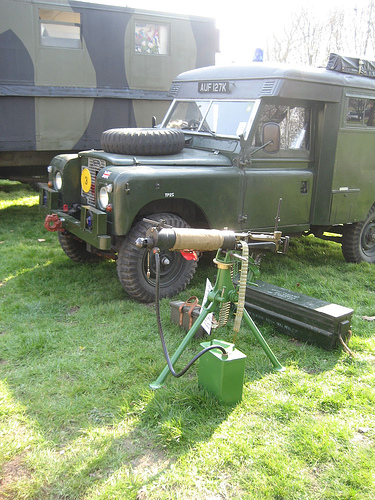rifle: (128, 227, 321, 378)
